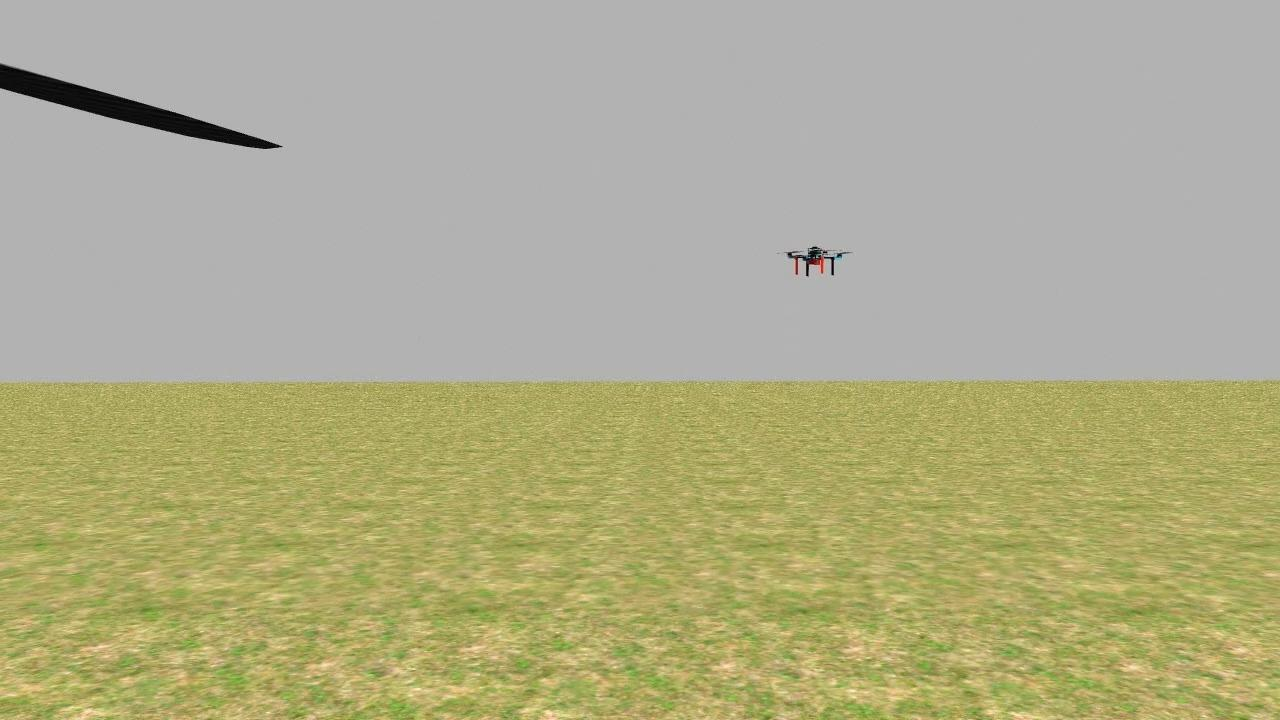UAV: (777, 234, 853, 294)
